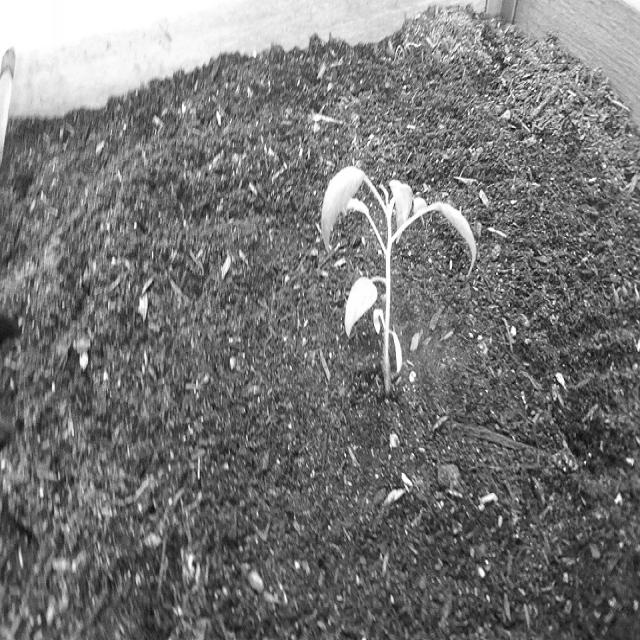Healthy: (314, 153, 486, 410)
